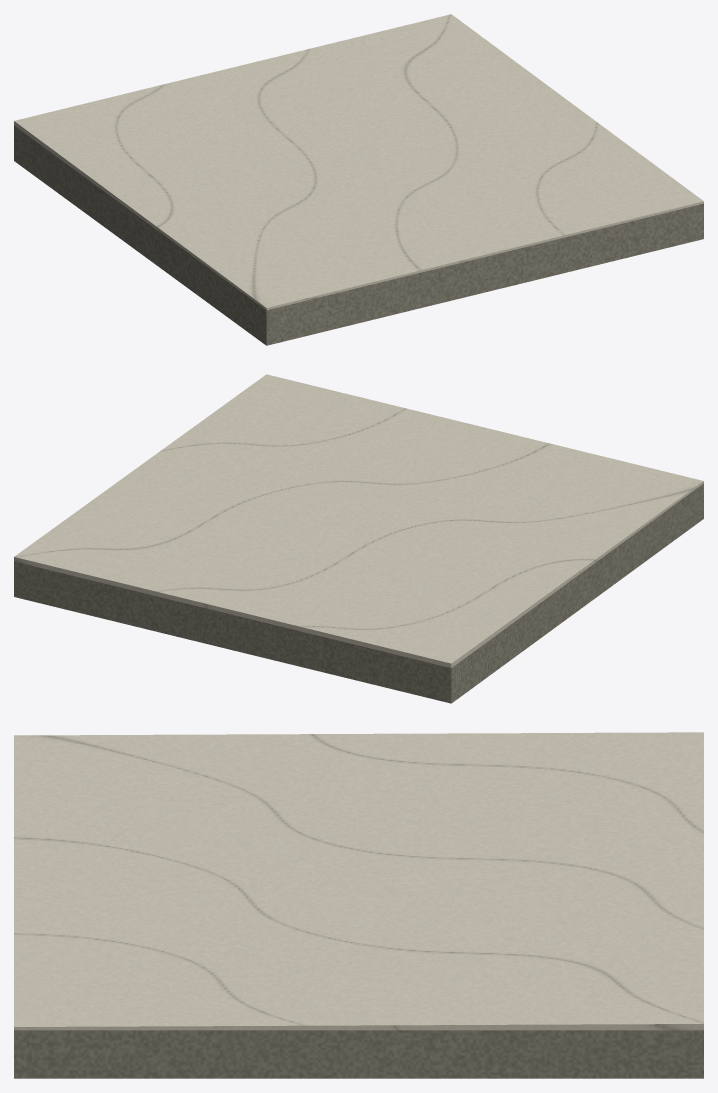
The picture shows the model from 3 angles, top to bottom: view 1: azimuth 30°, elevation 25°; view 2: azimuth 150°, elevation 25°; view 3: azimuth 270°, elevation 25°; orthographic projection. The views are drawn at different scales.
Visible parts, largest first — view 1: LOD2__Shallow fall marble roof, LOD2__Roof bearing core; view 2: LOD2__Shallow fall marble roof, LOD2__Roof bearing core; view 3: LOD2__Shallow fall marble roof, LOD2__Roof bearing core.
Boxes of the visible parts, x1,y1,x2,y2 form: LOD2__Shallow fall marble roof: [14, 14, 703, 310]; LOD2__Roof bearing core: [14, 126, 703, 345]; LOD2__Shallow fall marble roof: [14, 374, 703, 667]; LOD2__Roof bearing core: [14, 483, 703, 703]; LOD2__Shallow fall marble roof: [14, 732, 703, 1030]; LOD2__Roof bearing core: [14, 1030, 703, 1078].
Bounding box in the file's own units: 4 × 0.35 × 4.
2 materials, 2 textured.
